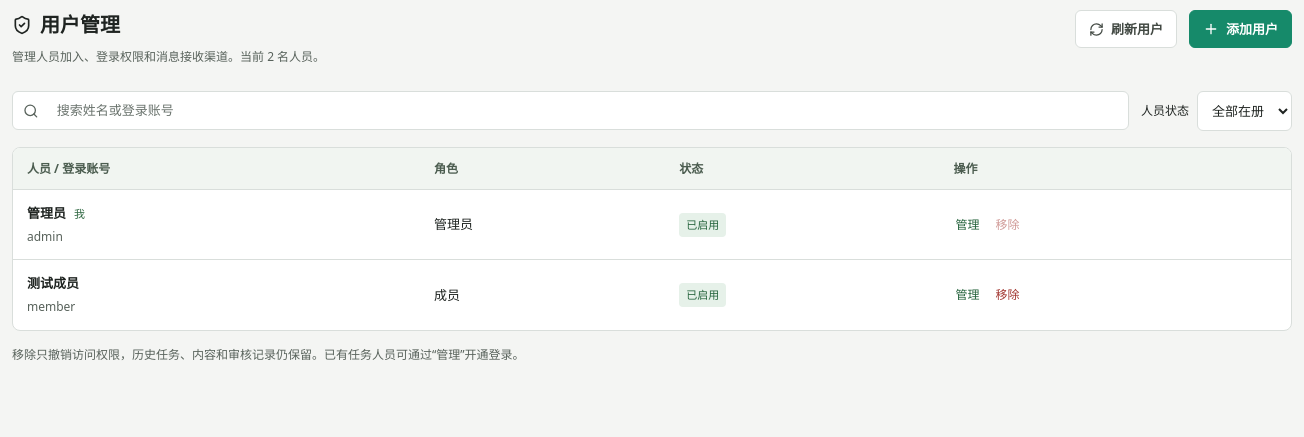
Scenario: 用户管理 › 移除需要确认，当前账号受保护，取消不会发请求
Check: the text "测试成员" is shown, box 27,274 -> 79,292
Check: the button with aria-label "移除 管理员" is disabled, box 994,209 -> 1022,240
What coordinates should you click on to do the following:
click the button with aria-label "移除 测试成员"
I would click on:
 (1008, 295)
Its box is 994,279 -> 1022,311.
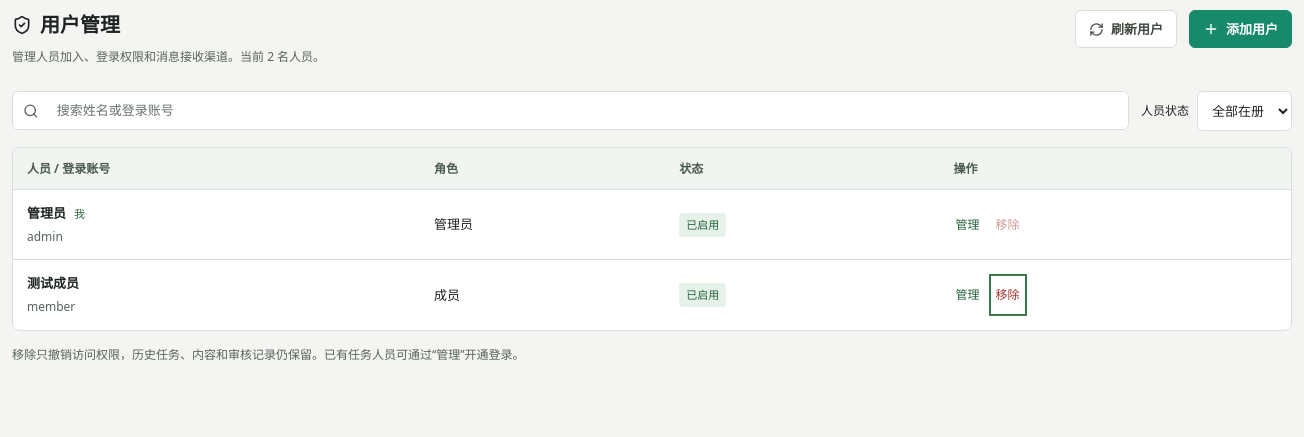
What coordinates should you click on to do the following:
click the button with aria-label "移除 测试成员"
I would click on:
 (1008, 295)
Its box is 994,279 -> 1022,311.
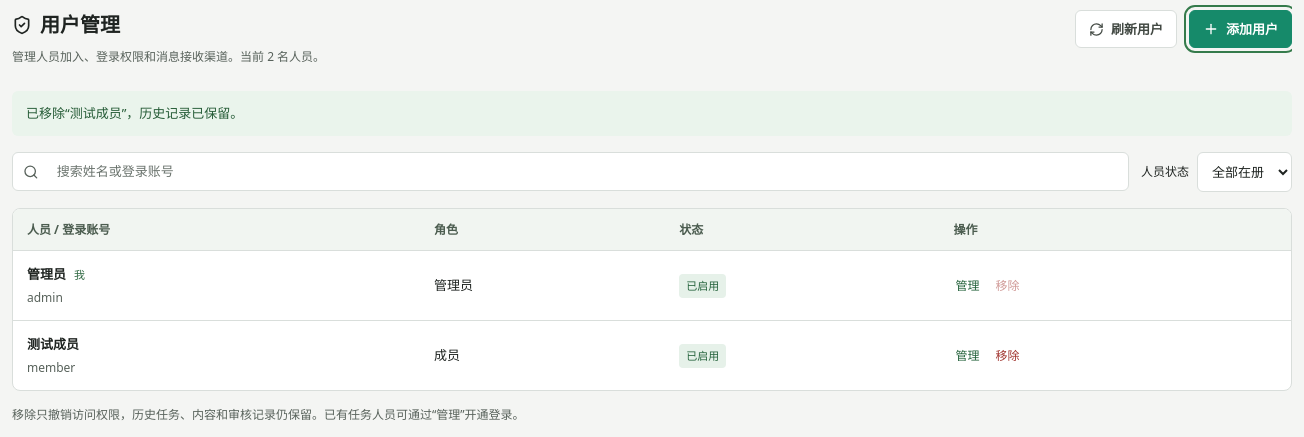
Check: the message shows "历史记录已保留", box 26,104 -> 243,122
